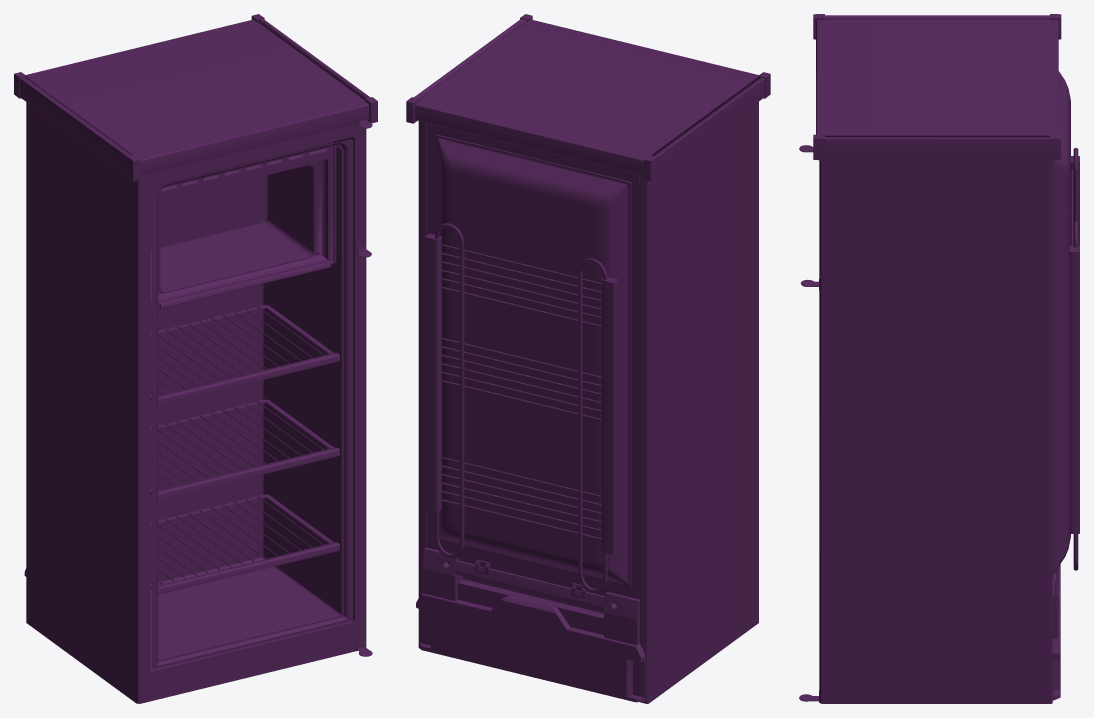
File: SM_Fridge.fbx
The picture shows the model from 3 angles, left to right: view 1: azimuth 30°, elevation 25°; view 2: azimuth 150°, elevation 25°; view 3: azimuth 270°, elevation 25°; orthographic projection. The views are drawn at different scales.
Parts seen in each view (by area): view 1: SM_Fridge; view 2: SM_Fridge; view 3: SM_Fridge.
Boxes of the visible parts, bbox=[...] form: SM_Fridge: bbox=[14, 14, 377, 703]; SM_Fridge: bbox=[406, 14, 770, 703]; SM_Fridge: bbox=[799, 14, 1079, 703].
Size of the model in its own units: 98.37 by 210 by 93.8.
